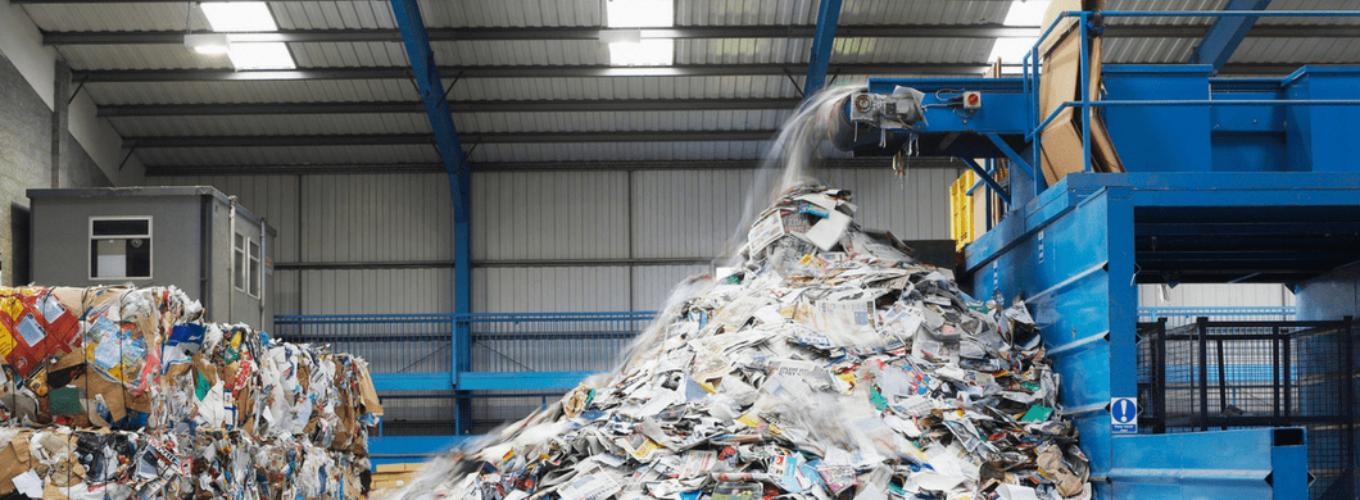garbage: (458, 217, 1050, 500), (0, 303, 382, 500)
